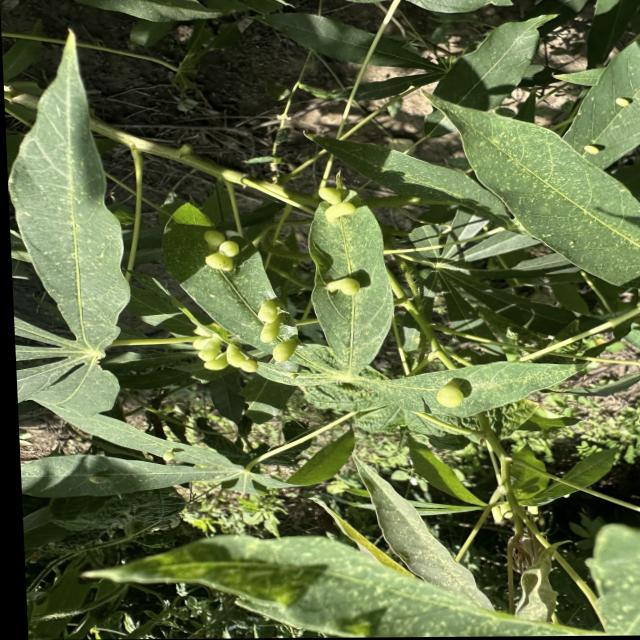Mosca: (188, 307, 257, 387), (253, 289, 292, 371), (189, 225, 245, 274), (302, 175, 360, 221), (428, 381, 487, 418), (317, 279, 368, 302), (595, 87, 635, 116), (580, 132, 606, 160)
